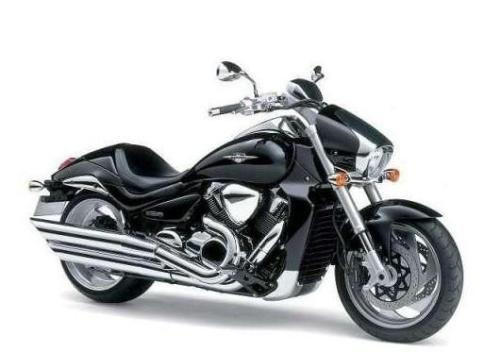motor: (43, 59, 473, 342)
